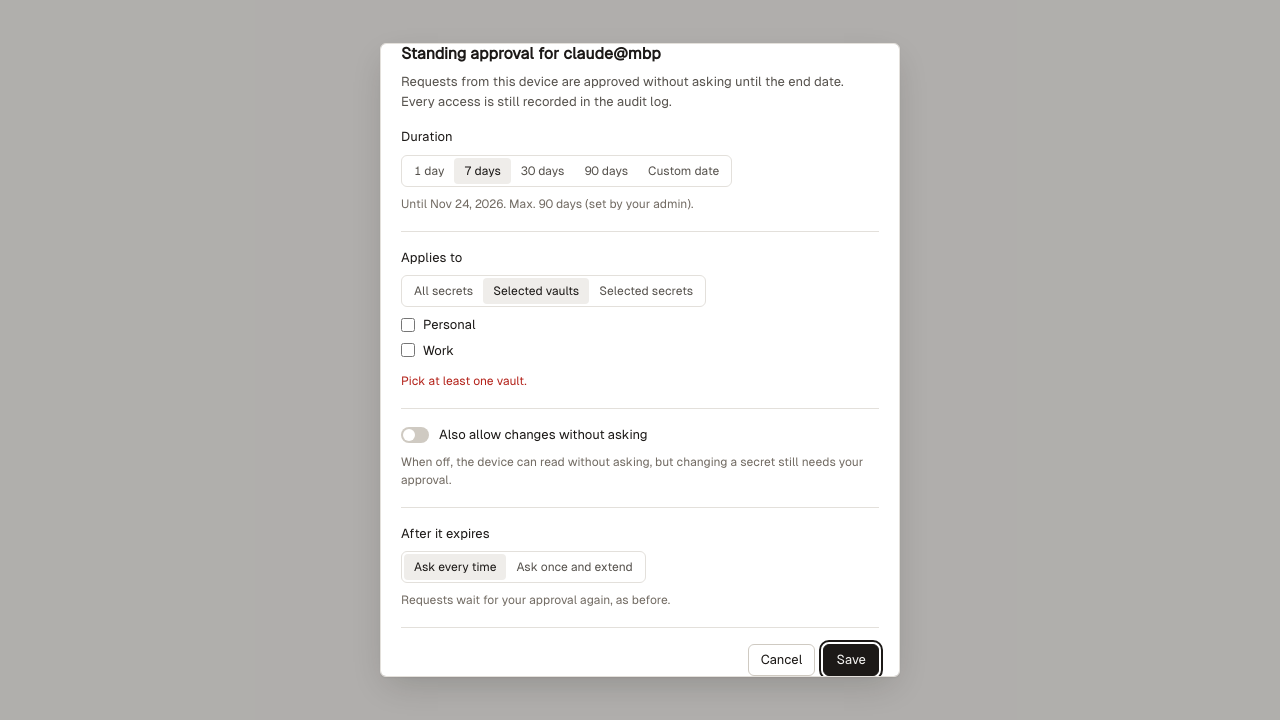
Test: StandingApprovalDialog › requires at least one vault for selected vaults and sends nothing until then
Earlier steps of the test are not shown.
Later steps or results of the test are not shown.
(page scrolled)
Check: the message reads "Pick at least one vault.", box [401, 374, 527, 388]
Click the checkbox labelled "Work" at (408, 350), box [401, 343, 415, 357]
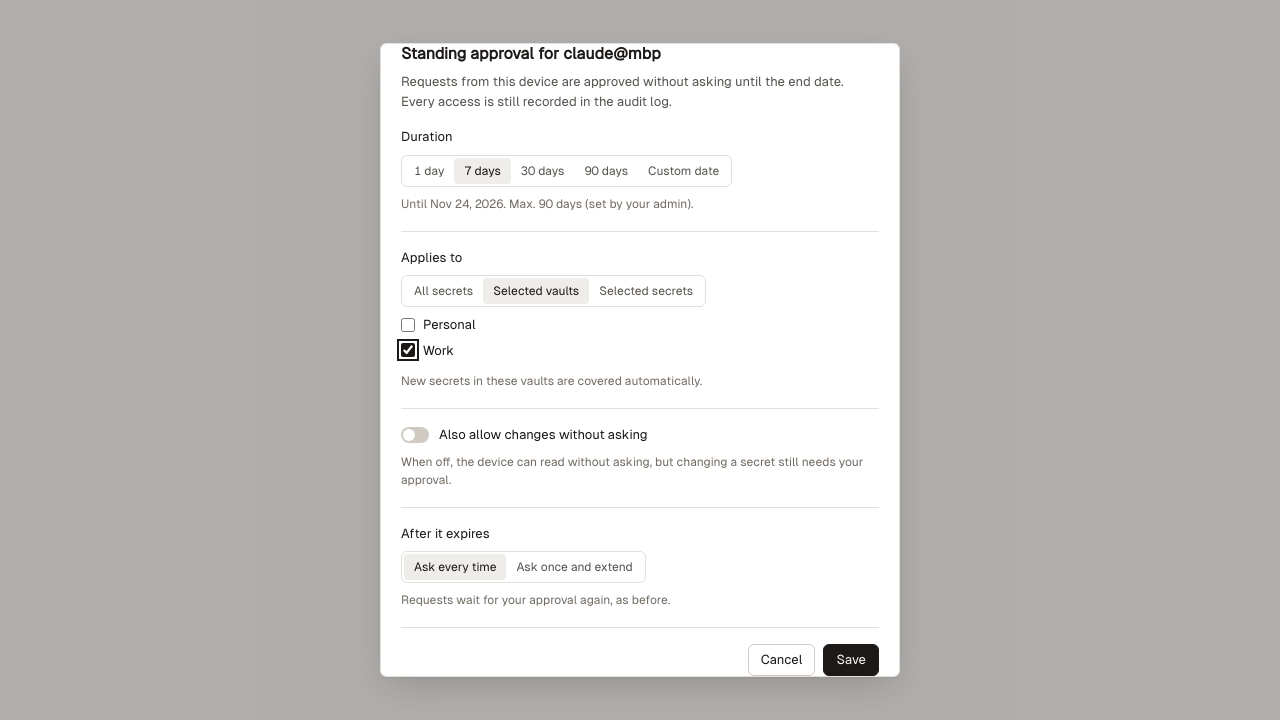
Check: the message "Pick at least one vault." is gone
